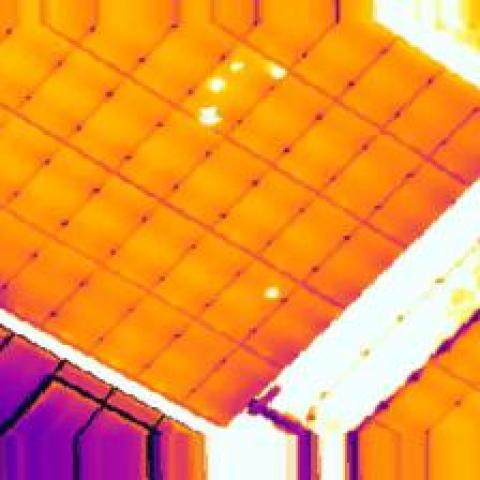fault: (193, 100, 225, 128), (259, 281, 285, 306), (266, 60, 289, 86), (227, 56, 251, 79), (206, 73, 229, 96)
